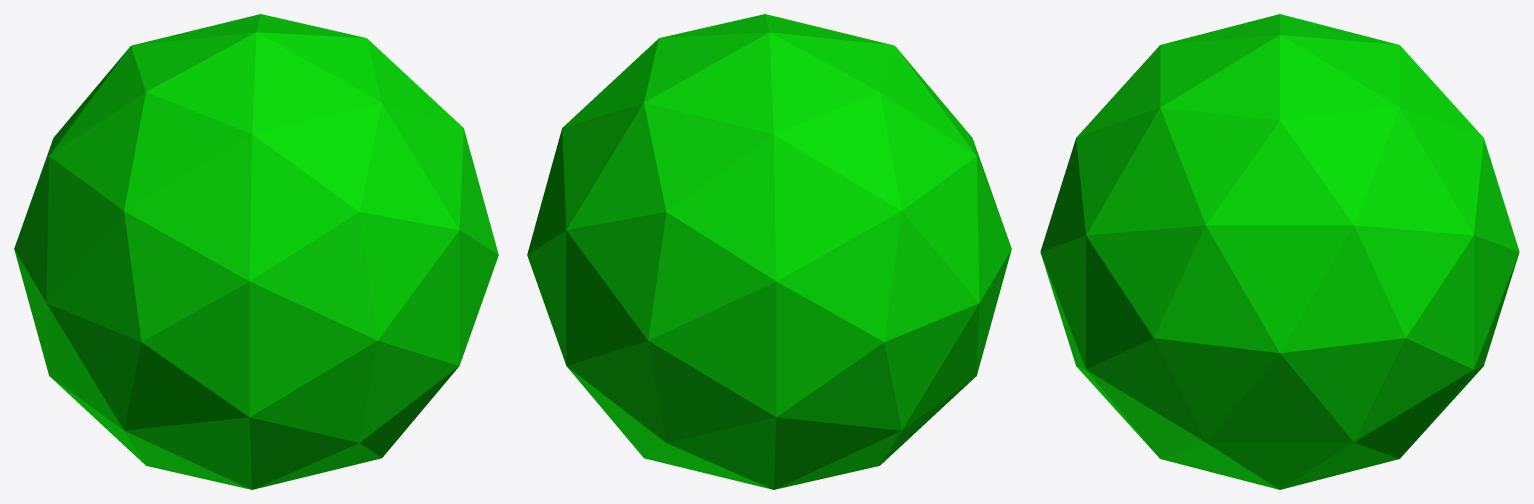
3 renders of one model, left to right at view 1: azimuth 30°, elevation 25°; view 2: azimuth 150°, elevation 25°; view 3: azimuth 270°, elevation 25°, orthographic.
Parts seen in each view (by area): view 1: world; view 2: world; view 3: world.
Boxes of the visible parts, <box> form: world: <box>14,14,498,489</box>; world: <box>527,14,1011,489</box>; world: <box>1040,14,1519,489</box>.
Bounding box in the file's own units: 2 × 2 × 2.
